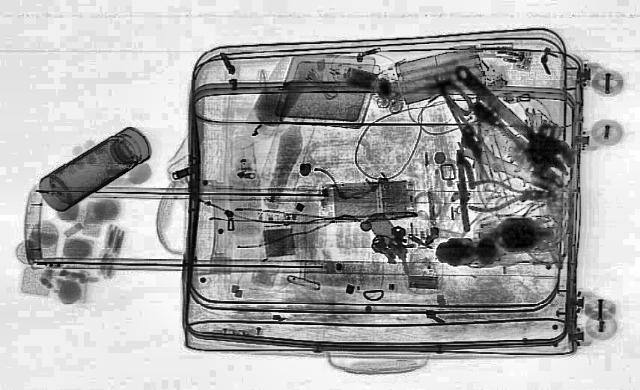Pliers: (468, 178, 552, 211)
Wrench: (436, 58, 588, 175)
